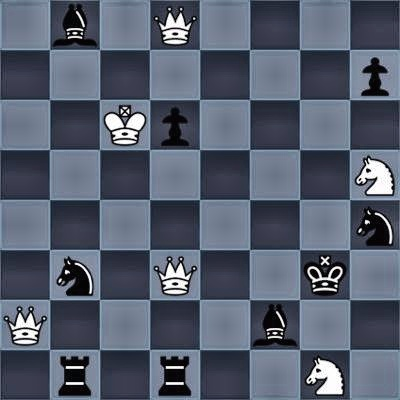black-bishop: (50, 0, 100, 50), (250, 300, 300, 350)
black-king: (300, 250, 350, 300)
black-knight: (350, 200, 400, 250), (50, 250, 100, 300)
black-pawn: (350, 50, 400, 100), (150, 100, 200, 150)
black-rook: (50, 350, 100, 400), (150, 350, 200, 400)
white-king: (100, 100, 150, 150)
white-knight: (350, 150, 400, 200), (300, 350, 350, 400)
white-queen: (150, 0, 200, 50), (150, 250, 200, 300), (0, 300, 50, 350)
